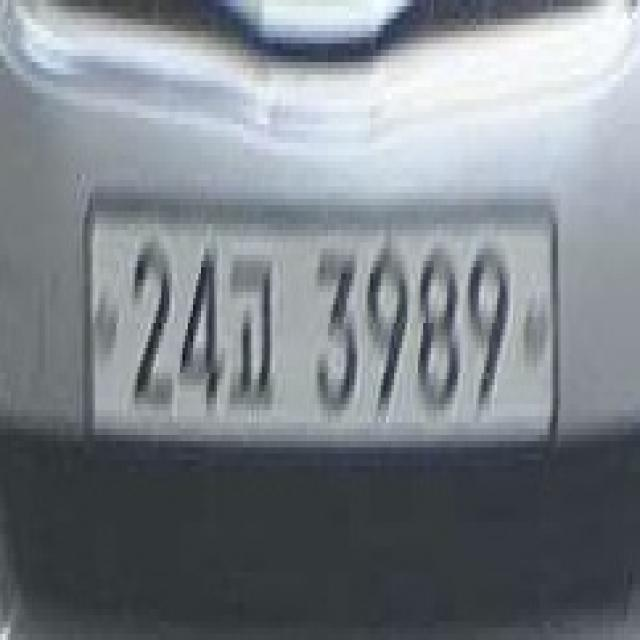2: (130, 230, 174, 418)
3: (310, 232, 362, 421)
4: (178, 230, 224, 415)
8: (414, 222, 464, 428)
9: (364, 223, 411, 424), (468, 227, 514, 418)
go: (228, 237, 277, 417)
license_plate: (87, 190, 557, 445)
